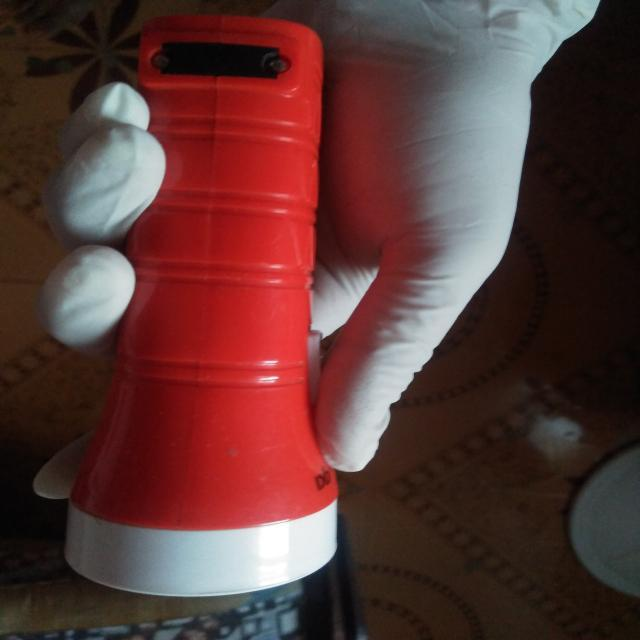gloved_hand: (34, 1, 610, 523)
